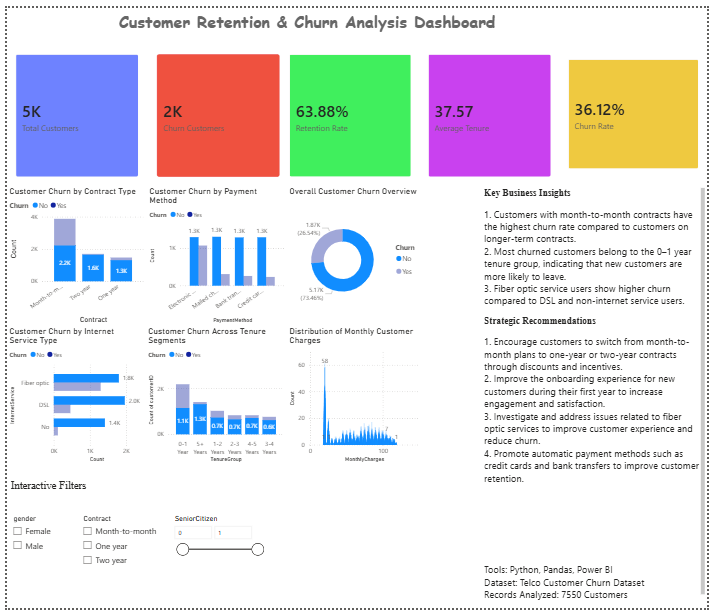

Layout of this report page (visuals, bound fields, positions):
{"tool":"powerbi","page":{"name":"Page 1","canvas":[1400,1200],"ordinal":0},"visuals":[{"type":"cardVisual","fields":{"Data":["cleaned_churn.Total Customers"]},"box":[0,74.7,280.2,280.2],"z":0},{"type":"cardVisual","fields":{"Data":["cleaned_churn.Retention Rate"]},"box":[546.9,74.7,278.5,280.2],"z":1000},{"type":"cardVisual","fields":{"Data":["cleaned_churn.Churn Customers"]},"box":[281.9,74.7,280.2,280.2],"z":2000},{"type":"cardVisual","fields":{"Data":["cleaned_churn.Average Tenure"]},"box":[825.4,74.7,280.2,280.2],"z":3000},{"type":"columnChart","title":"Customer Churn by Contract Type","fields":{"Category":["cleaned_churn.Contract"],"Y":["CountNonNull(cleaned_churn.customerID)"],"Series":["cleaned_churn.Churn"]},"box":[0,355,280.2,280.2],"z":3001},{"type":"clusteredColumnChart","title":"Customer Churn by Payment Method","fields":{"Category":["cleaned_churn.PaymentMethod"],"Y":["CountNonNull(cleaned_churn.customerID)"],"Series":["cleaned_churn.Churn"]},"box":[280.2,355,280.2,280.2],"z":3003},{"type":"clusteredBarChart","title":"Customer Churn by Internet Service Type","fields":{"Category":["cleaned_churn.InternetService"],"Y":["CountNonNull(cleaned_churn.customerID)"],"Series":["cleaned_churn.Churn"]},"box":[0,635.2,278.5,278.5],"z":3006},{"type":"columnChart","title":"Customer Churn Across Tenure Segments","fields":{"Category":["cleaned_churn.TenureGroup"],"Series":["cleaned_churn.Churn"],"Y":["CountNonNull(cleaned_churn.customerID)"]},"box":[278.5,635.2,280.2,278.5],"z":3008},{"type":"clusteredColumnChart","title":"Distribution of Monthly Customer Charges","fields":{"Category":["cleaned_churn.MonthlyCharges"],"Y":["CountNonNull(cleaned_churn.customerID)"]},"box":[558.8,635.2,280.2,278.5],"z":3009},{"type":"slicer","fields":{"Values":["cleaned_churn.gender"]},"box":[0,1006.8,140.6,193.6],"z":3010},{"type":"slicer","fields":{"Values":["cleaned_churn.Contract"]},"box":[140.6,1006.8,187.5,193.6],"z":3011},{"type":"slicer","fields":{"Values":["cleaned_churn.SeniorCitizen"]},"box":[322,1006.8,199.7,193.6],"z":3012},{"type":"textbox","box":[0,0,1200.8,74.7],"z":3013},{"type":"donutChart","title":"Overall Customer Churn Overview","fields":{"Category":["cleaned_churn.Churn"],"Y":["CountNonNull(cleaned_churn.customerID)"]},"box":[558.8,355,280.2,280.2],"z":3014},{"type":"textbox","box":[949.7,354.6,450.4,845.8],"z":3015},{"type":"textbox","box":[2,937.5,277.2,44.8],"z":3016},{"type":"cardVisual","fields":{"Data":["cleaned_churn.Churn Rate"]},"box":[1104.6,85.6,295.5,254.8],"z":3017}]}

Visuals, with their boxes in screenshot pixels (x1, y1, x2, y2), scaled from the page's 1400x1200 canvas onto the 712x610 screenshot:
cardVisual - cleaned_churn.Total Customers: locate(0, 38, 143, 180)
cardVisual - cleaned_churn.Retention Rate: locate(278, 38, 420, 180)
cardVisual - cleaned_churn.Churn Customers: locate(143, 38, 286, 180)
cardVisual - cleaned_churn.Average Tenure: locate(420, 38, 562, 180)
"Customer Churn by Contract Type" columnChart: locate(0, 180, 143, 323)
"Customer Churn by Payment Method" clusteredColumnChart: locate(143, 180, 285, 323)
"Customer Churn by Internet Service Type" clusteredBarChart: locate(0, 323, 142, 464)
"Customer Churn Across Tenure Segments" columnChart: locate(142, 323, 284, 464)
"Distribution of Monthly Customer Charges" clusteredColumnChart: locate(284, 323, 427, 464)
slicer - cleaned_churn.gender: locate(0, 512, 72, 609)
slicer - cleaned_churn.Contract: locate(72, 512, 167, 609)
slicer - cleaned_churn.SeniorCitizen: locate(164, 512, 265, 609)
textbox: locate(0, 0, 611, 38)
"Overall Customer Churn Overview" donutChart: locate(284, 180, 427, 323)
textbox: locate(483, 180, 711, 609)
textbox: locate(1, 477, 142, 499)
cardVisual - cleaned_churn.Churn Rate: locate(562, 44, 711, 173)
